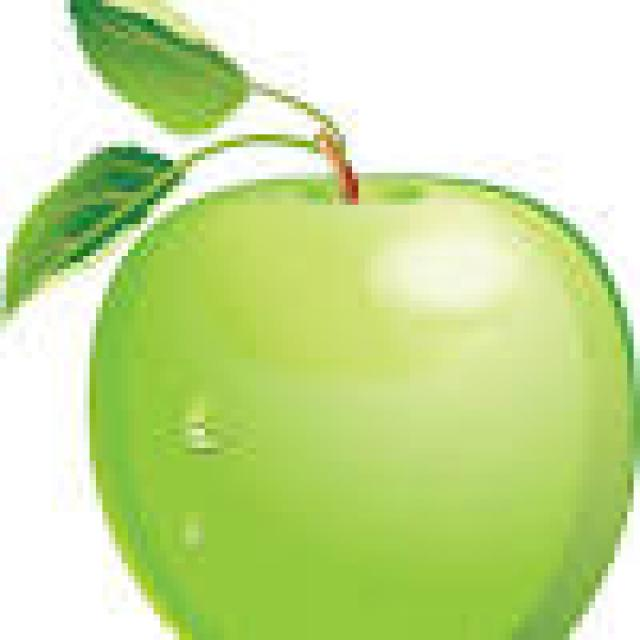50-_ripeness: (39, 107, 639, 640)
